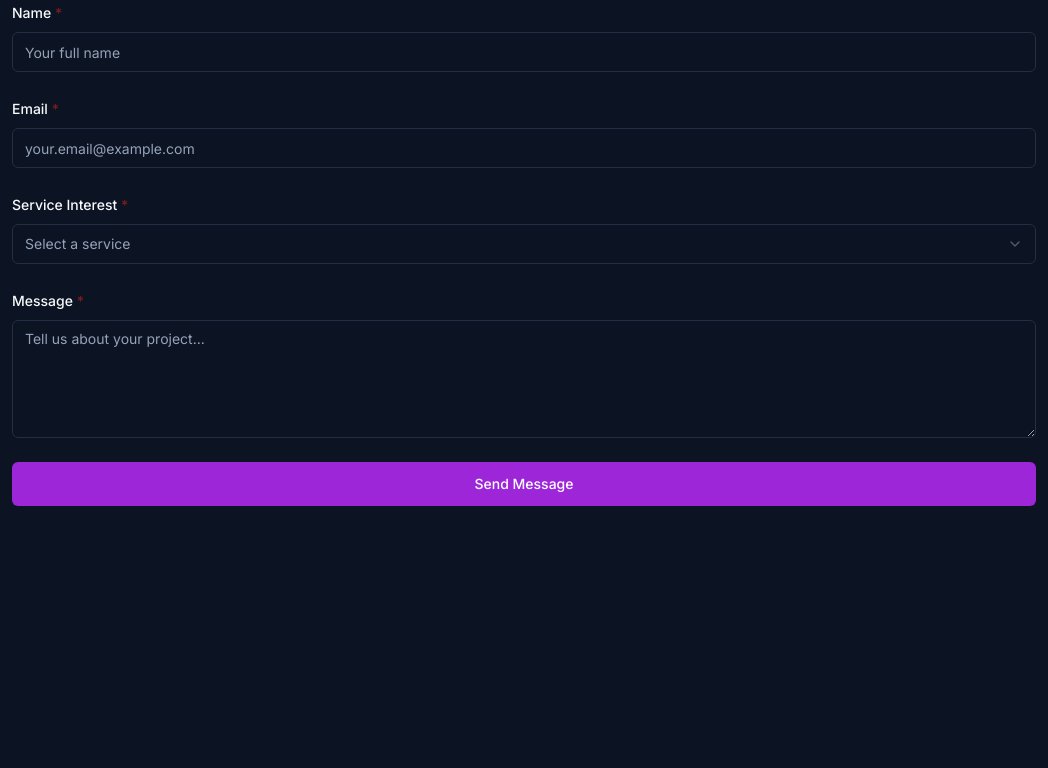
it: Accessibility Tests - axe-core › ContactForm Component › should have role="alert" on error messages
The width and height of the screenshot is (1048, 768).
// Trigger validation error
Type "A" into the field labelled "Name *" at [524, 52], box left=12, top=32, right=1036, bottom=72
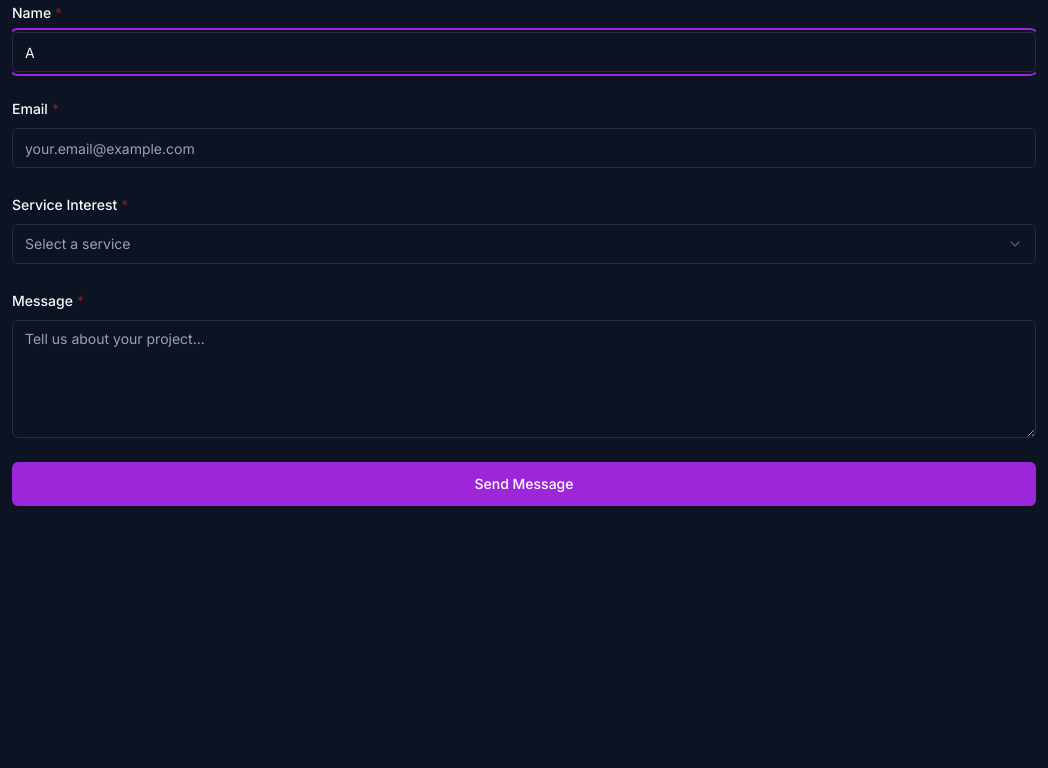
Press Tab
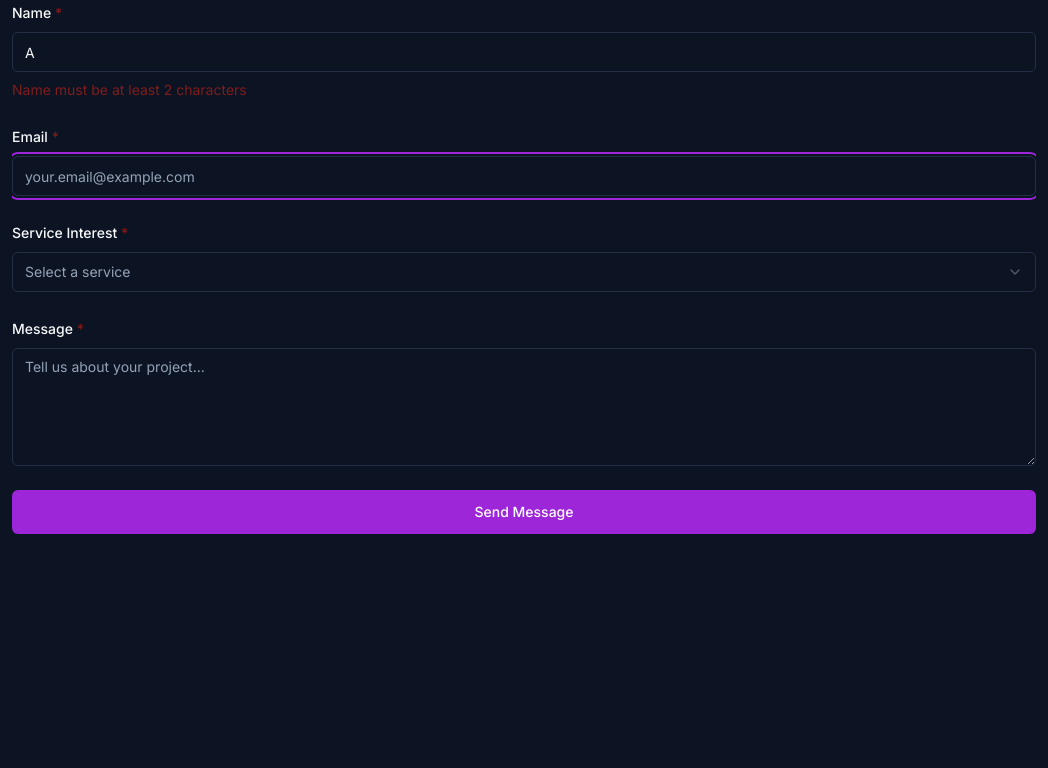
Result: the message "Name must be at least 2 characters" is shown at left=12, top=81, right=247, bottom=98
